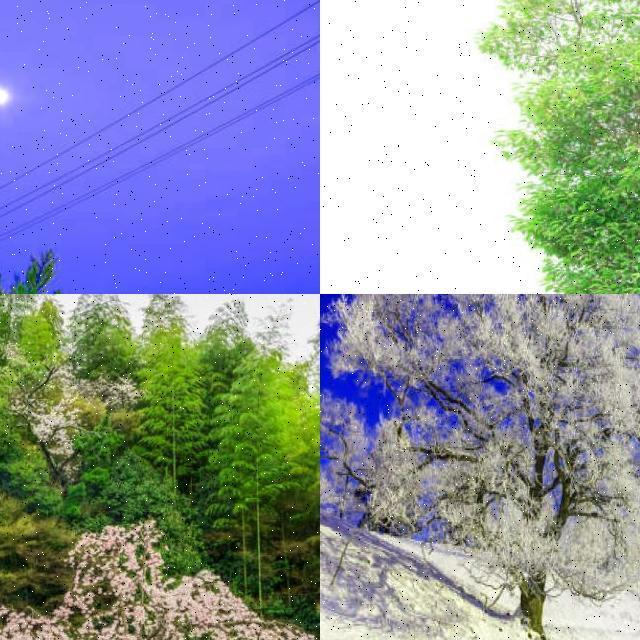tree: (320, 294, 640, 620), (483, 0, 640, 294), (0, 506, 320, 640), (206, 344, 308, 558), (141, 343, 205, 472)
